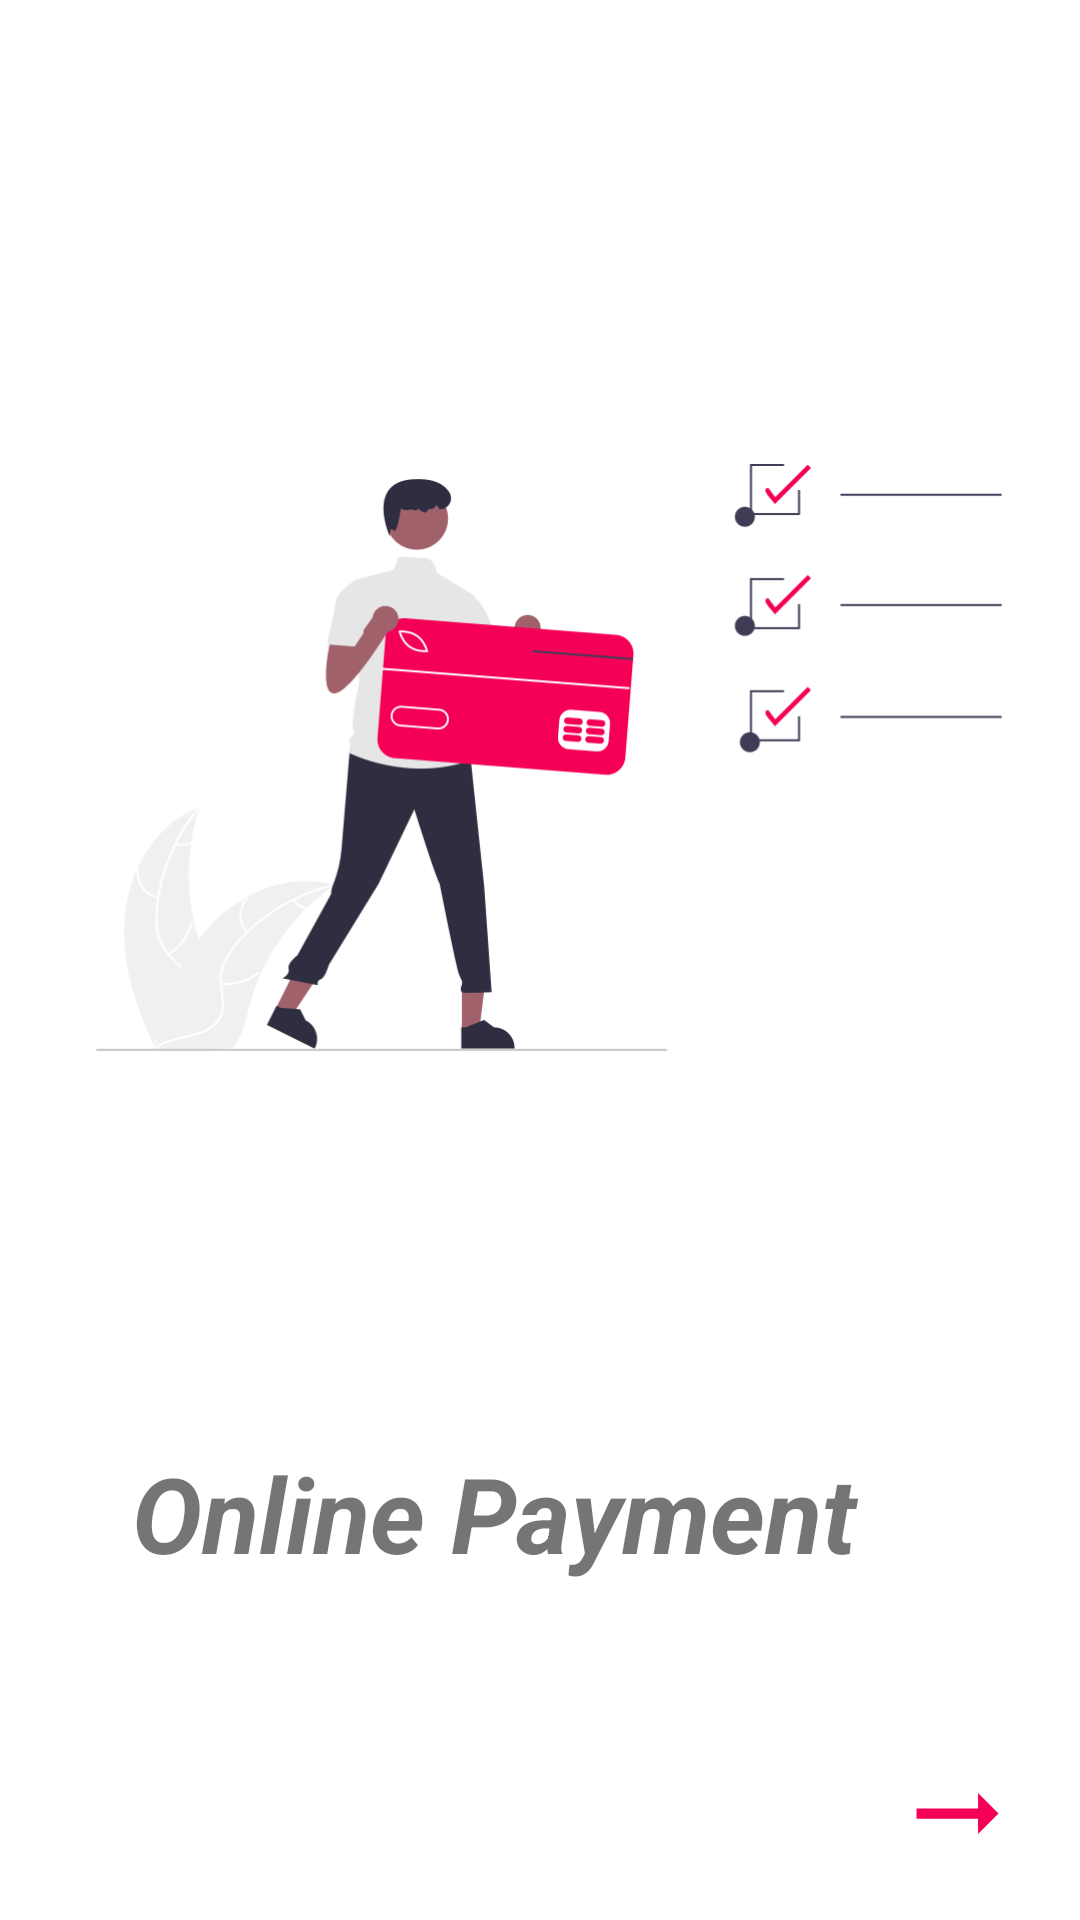

Point at icon controls on the screen. Image size 1080*1920, points as (x=x, y=y).
next: (x=957, y=1813)
